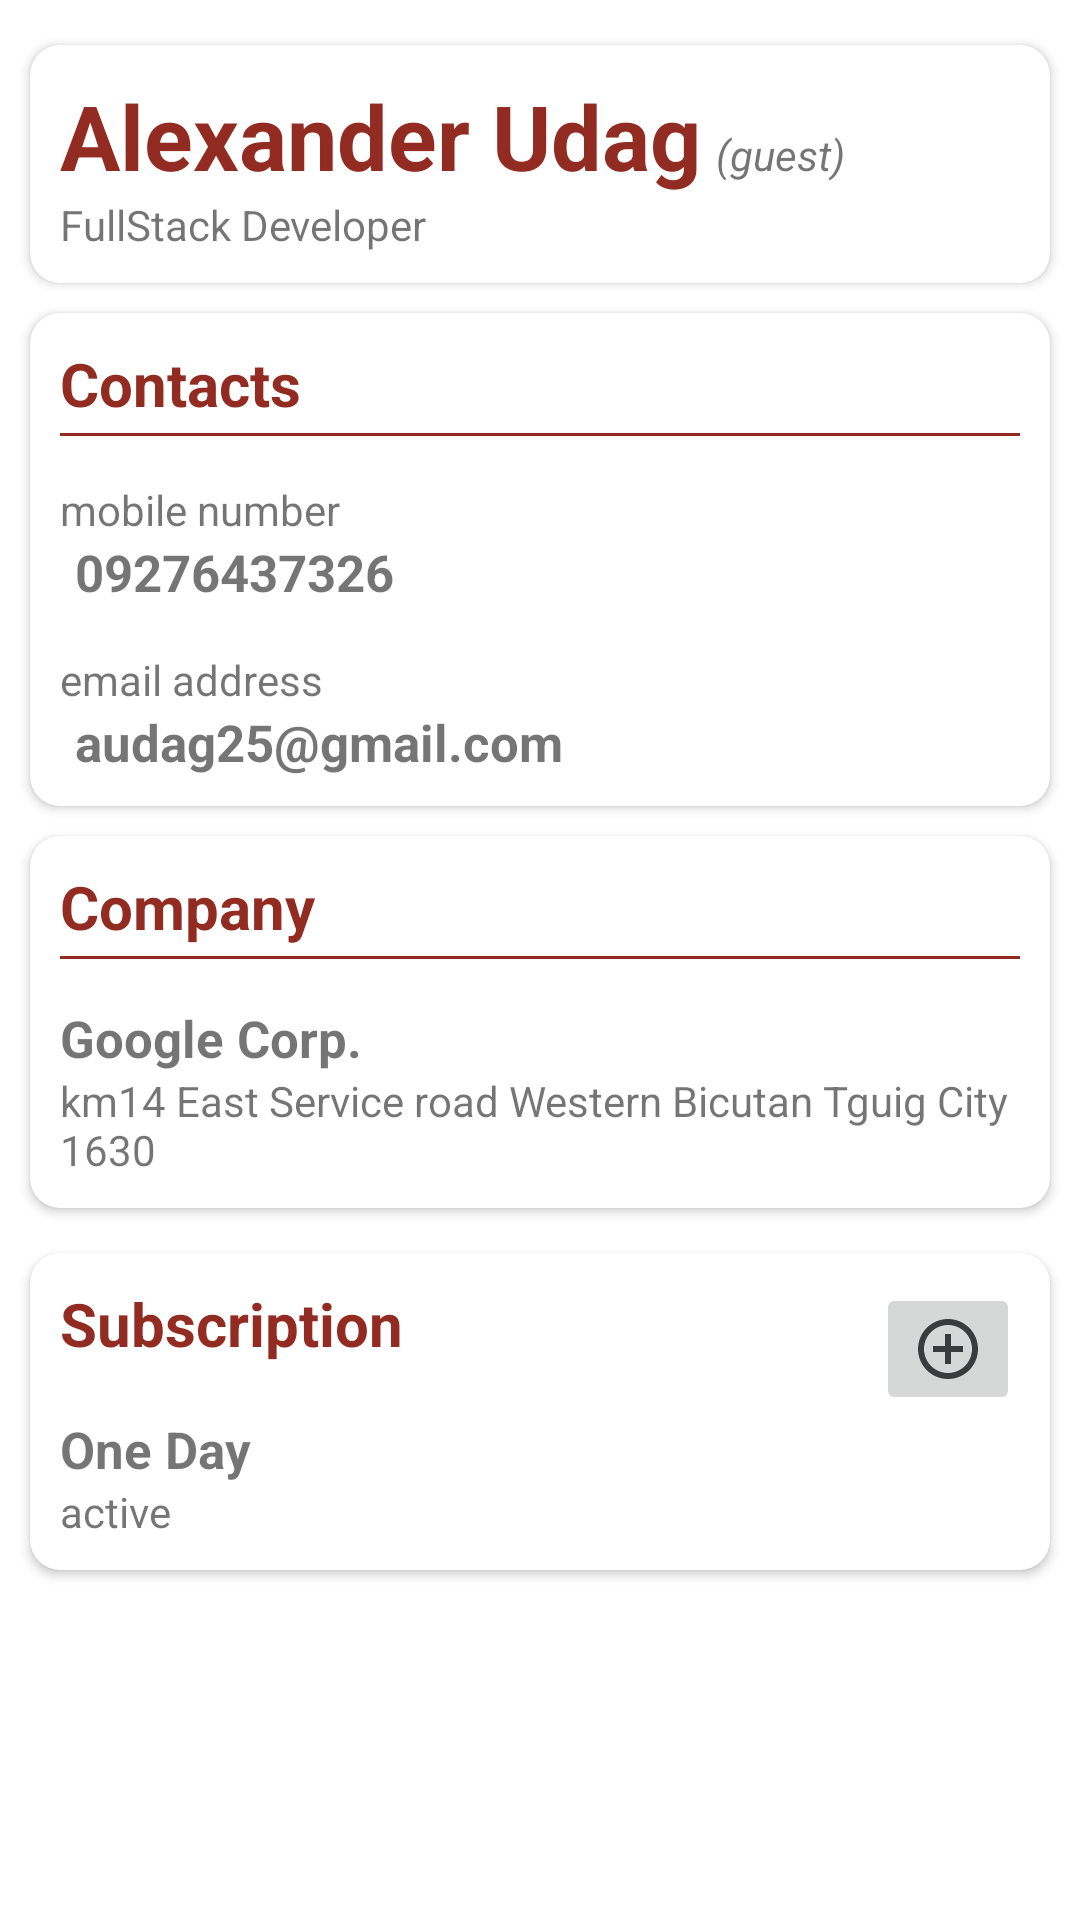

Screen size 1080w x 1920h. Icon name, then its center in pixels as (x,y):
add circle: (948,1349)
